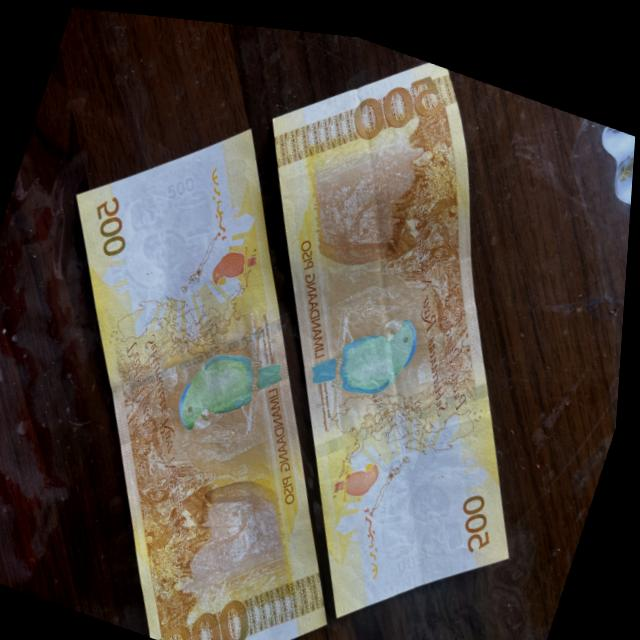500_big_parrot: (177, 321, 293, 450), (314, 290, 430, 412)
500_parrot_watermark: (209, 230, 265, 295), (333, 441, 389, 498)
value_watermark: (164, 157, 202, 207), (400, 529, 439, 576)
watermark: (112, 166, 228, 298), (368, 448, 484, 569)
